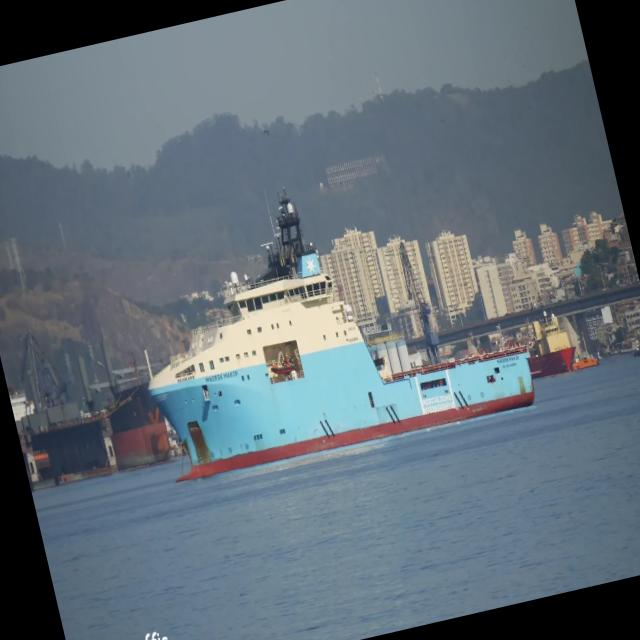Offshore: (148, 193, 534, 479)
